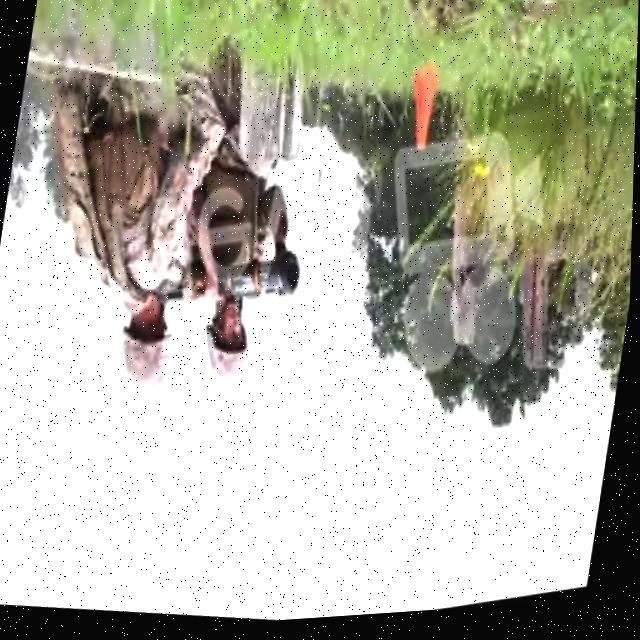rocket: (165, 236, 308, 329)
